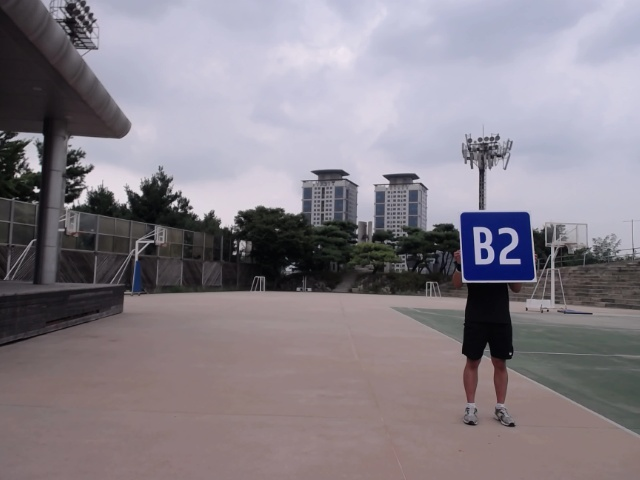delivery_b2: (457, 210, 538, 282)
